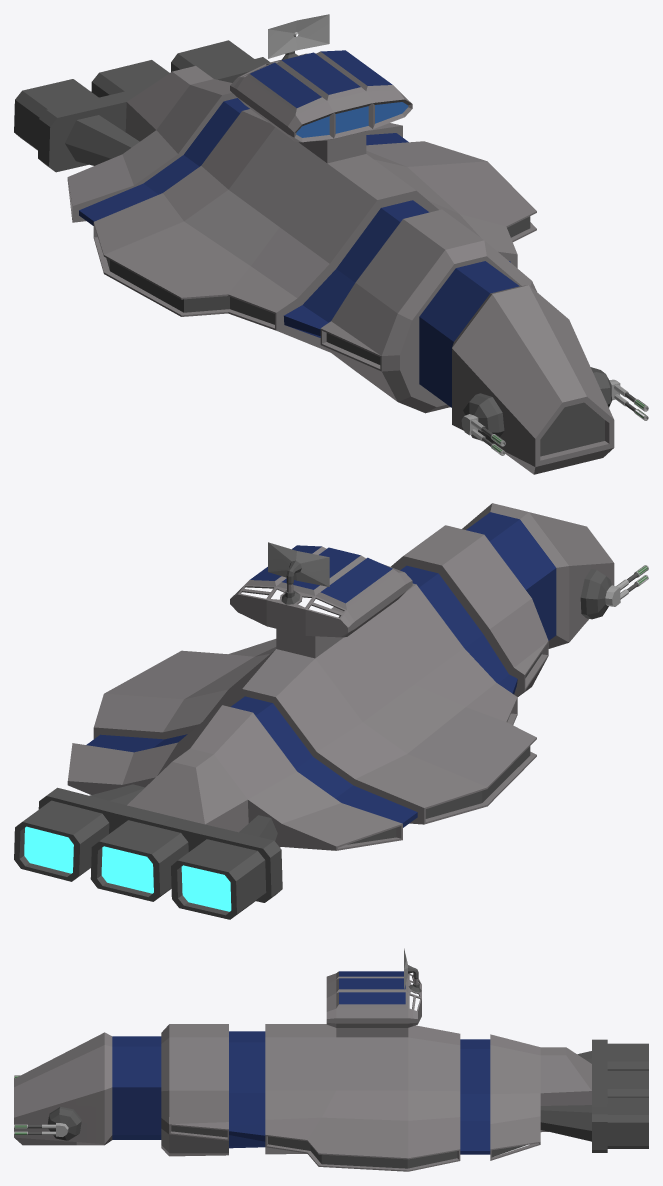
File: spship6.glb
3 views of the same model, one above another, from view 1: azimuth 30°, elevation 25°; view 2: azimuth 150°, elevation 25°; view 3: azimuth 270°, elevation 25° (orthographic). The views are drawn at different scales.
Size of the model in its own units: 2.15 by 1.39 by 4.36.
